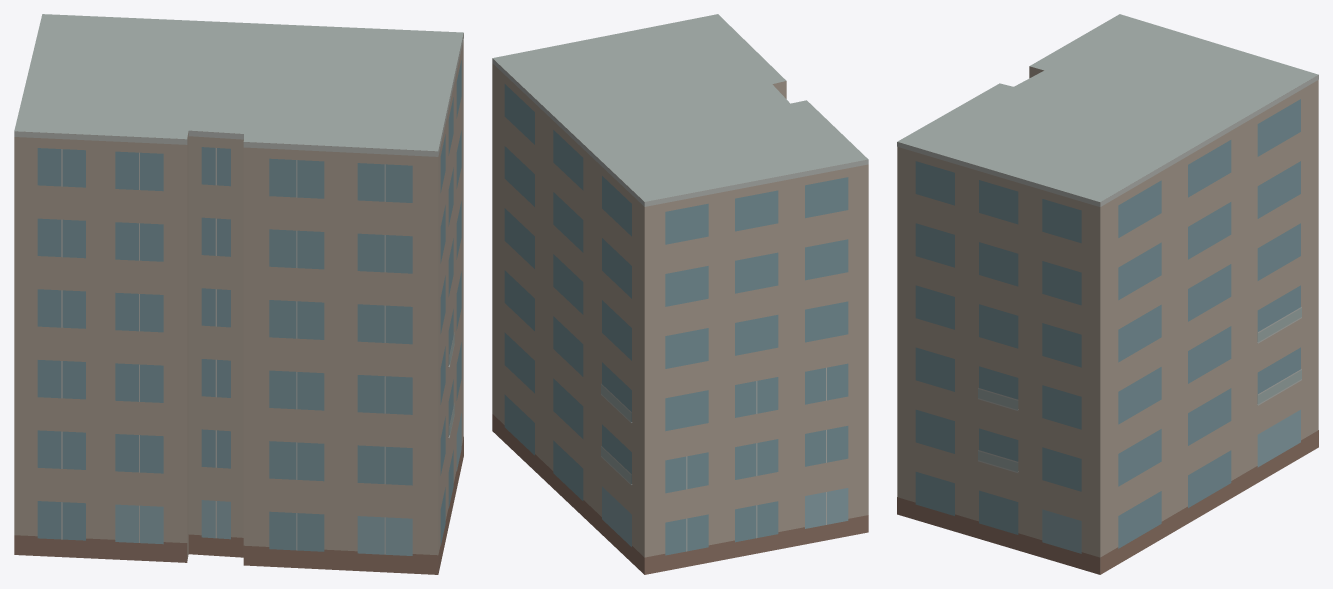
File: survey-upis-32554203.glb
The picture shows the model from 3 angles, left to right: view 1: azimuth 30°, elevation 25°; view 2: azimuth 150°, elevation 25°; view 3: azimuth 270°, elevation 25°; orthographic projection. The views are drawn at different scales.
Visible parts, largest first — view 1: survey-upis-32554203.tmp; view 2: survey-upis-32554203.tmp; view 3: survey-upis-32554203.tmp.
Boxes of the visible parts, left/top/right/bottom form: survey-upis-32554203.tmp: left=14, top=14, right=463, bottom=574; survey-upis-32554203.tmp: left=492, top=14, right=868, bottom=574; survey-upis-32554203.tmp: left=897, top=14, right=1318, bottom=574.
Bounding box in the file's own units: 19.83 × 18.3 × 18.78.
